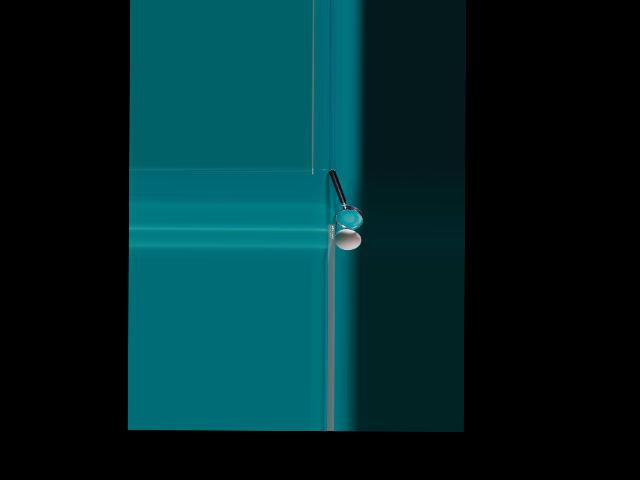egg: (334, 229, 361, 250)
